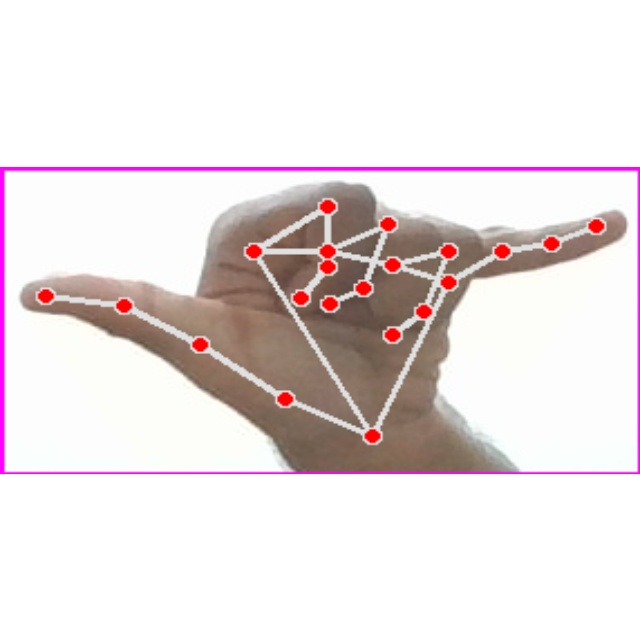Y: (0, 167, 640, 474)
